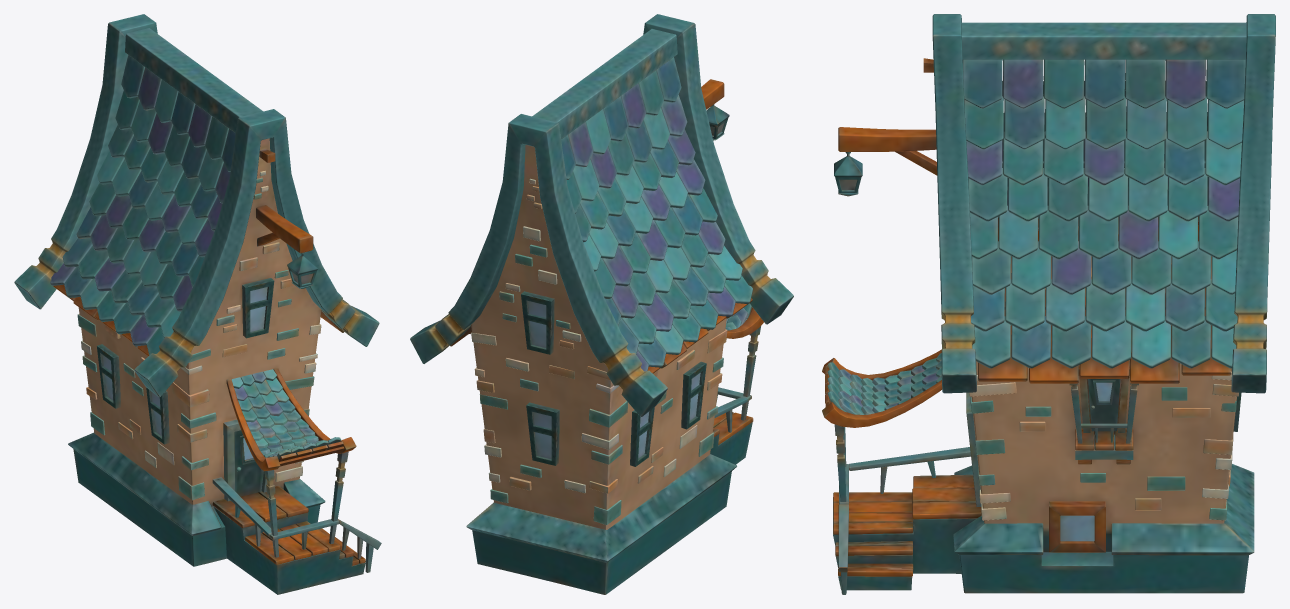
3 views of the same model, side by side, from view 1: azimuth 30°, elevation 25°; view 2: azimuth 150°, elevation 25°; view 3: azimuth 270°, elevation 25° (orthographic). The views are drawn at different scales.
Visible parts, largest first — view 1: L_roof_low, walls_low, wood_border_low, bricks_low, foundation_steel_low, top_wood_low, stairs_low, small_roof_low, stairs_plank_low, window_low, front_balusters_low, small_roof_side_wood_low (+7 smaller); view 2: walls_low, L_roof_low, wood_border_low, bricks_low, foundation_steel_low, top_wood_low, window_low, windows_glass, stairs_low, front_balusters_low, stairs_plank_low, L_roof_planks_low (+3 smaller); view 3: R_roof_low, walls_low, wood_border_low, top_wood_low, foundation_steel_low, stairs_plank_low, bricks_low, stairs_low, R_roof_planks_low, small_roof_low, wood_med_top_low, small_roof_side_wood_low (+12 smaller).
Boxes of the visible parts, bbox=[...] form: L_roof_low: bbox=[50, 55, 235, 354]; walls_low: bbox=[73, 138, 321, 566]; wood_border_low: bbox=[14, 14, 379, 397]; bricks_low: bbox=[77, 170, 321, 500]; foundation_steel_low: bbox=[68, 432, 325, 535]; top_wood_low: bbox=[125, 28, 262, 132]; stairs_low: bbox=[213, 506, 365, 594]; small_roof_low: bbox=[231, 369, 340, 459]; stairs_plank_low: bbox=[212, 486, 365, 565]; window_low: bbox=[97, 278, 274, 444]; front_balusters_low: bbox=[235, 451, 373, 572]; small_roof_side_wood_low: bbox=[226, 367, 356, 471]; walls_low: bbox=[471, 145, 731, 594]; L_roof_low: bbox=[561, 57, 752, 371]; wood_border_low: bbox=[410, 14, 793, 416]; bricks_low: bbox=[471, 178, 727, 524]; foundation_steel_low: bbox=[466, 454, 736, 562]; top_wood_low: bbox=[532, 29, 677, 138]; window_low: bbox=[521, 291, 706, 466]; windows_glass: bbox=[528, 301, 700, 459]; stairs_low: bbox=[710, 422, 752, 464]; front_balusters_low: bbox=[716, 326, 760, 432]; stairs_plank_low: bbox=[713, 412, 753, 445]; L_roof_planks_low: bbox=[647, 298, 752, 373]; R_roof_low: bbox=[962, 59, 1245, 368]; walls_low: bbox=[959, 226, 1248, 593]; wood_border_low: bbox=[932, 14, 1275, 393]; top_wood_low: bbox=[961, 22, 1246, 59]; foundation_steel_low: bbox=[953, 464, 1254, 555]; stairs_plank_low: bbox=[833, 474, 981, 576]; bricks_low: bbox=[969, 371, 1238, 520]; stairs_low: bbox=[833, 497, 976, 590]; R_roof_planks_low: bbox=[978, 288, 1231, 383]; small_roof_low: bbox=[827, 353, 941, 414]; wood_med_top_low: bbox=[838, 127, 936, 151]; small_roof_side_wood_low: bbox=[822, 349, 942, 427].
Size of the model in its own units: 1.1 by 2 by 1.54.
1 material, 1 textured.
